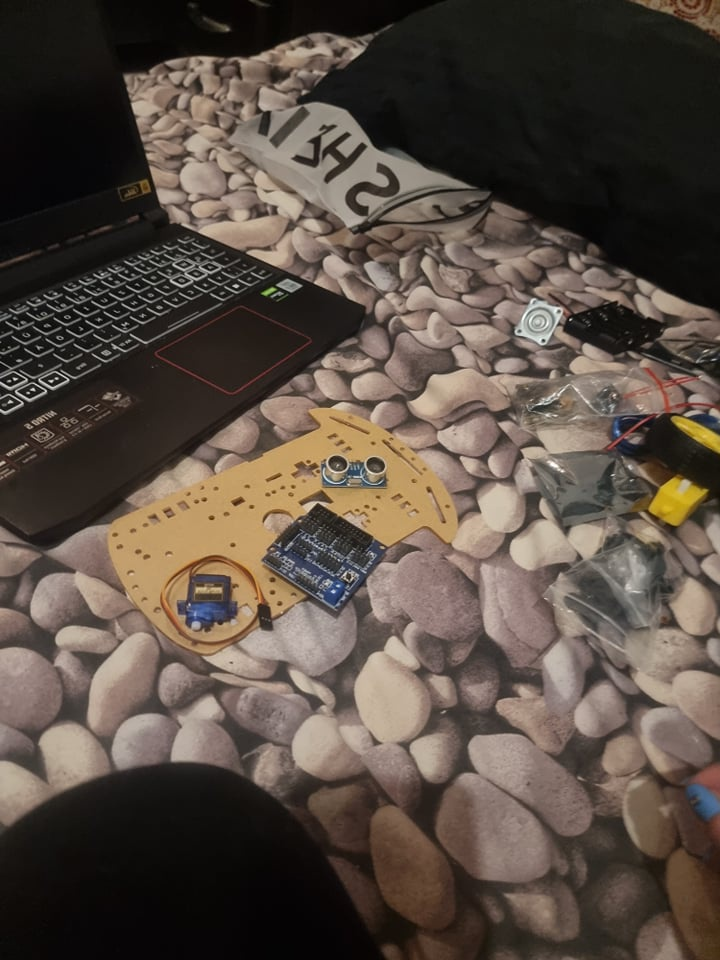5V EXPANSION: (261, 502, 388, 615)
BATTERY BOX: (561, 300, 667, 356)
SENSOR: (321, 453, 390, 489)
